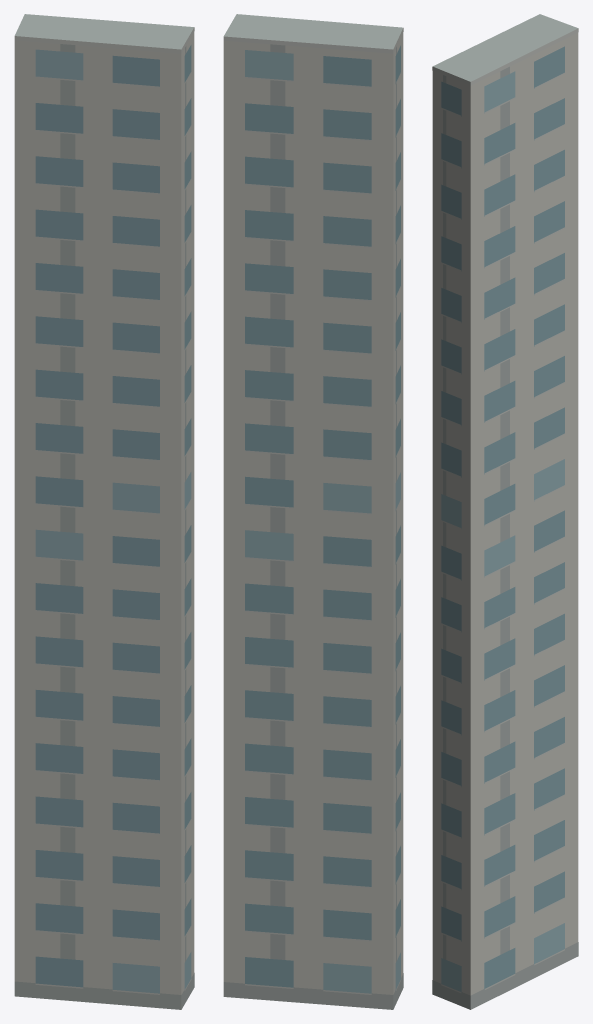
File: survey-upis-32673202.glb
The picture shows the model from 3 angles, left to right: view 1: azimuth 30°, elevation 25°; view 2: azimuth 210°, elevation 25°; view 3: azimuth 270°, elevation 25°; orthographic projection. The views are drawn at different scales.
Visible parts, largest first — view 1: survey-upis-32673202.tmp; view 2: survey-upis-32673202.tmp; view 3: survey-upis-32673202.tmp.
Part boxes in pixels (left/top/right/bottom): survey-upis-32673202.tmp: left=14, top=14, right=194, bottom=1009; survey-upis-32673202.tmp: left=223, top=14, right=403, bottom=1009; survey-upis-32673202.tmp: left=432, top=14, right=578, bottom=1009.
Size of the model in its own units: 8.62 by 54.9 by 7.83.
